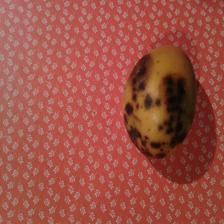Mango Semirotten: (117, 41, 200, 158)
